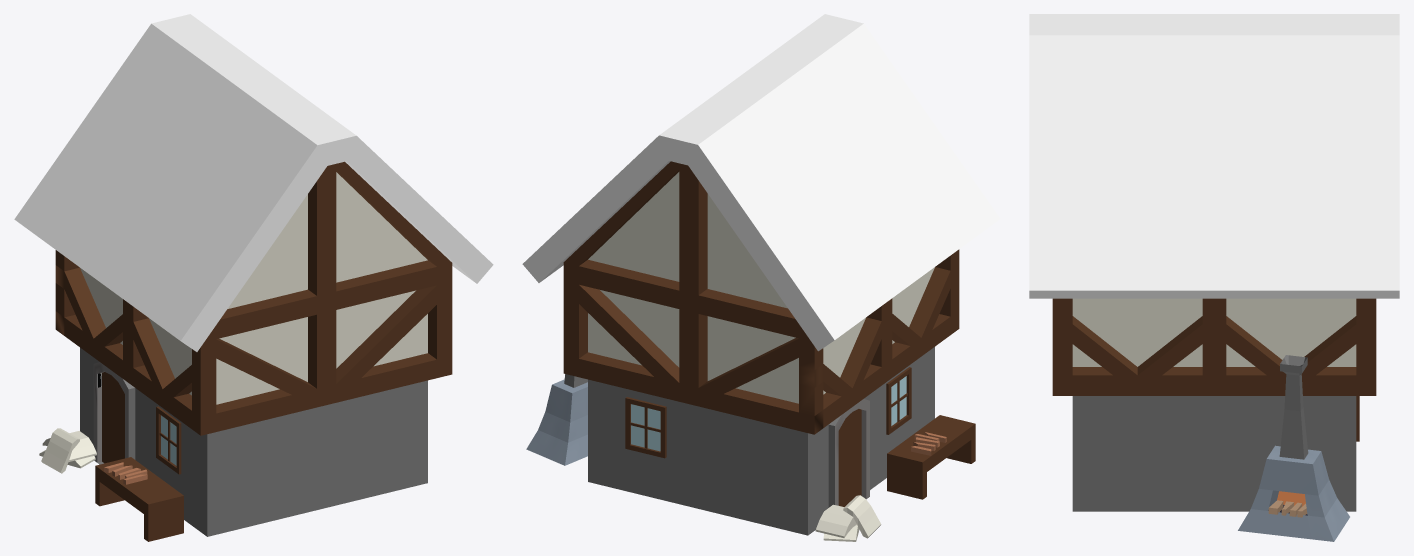
The model's file is BakeryCenter.fbx.
3 renders of one model, left to right at view 1: azimuth 30°, elevation 25°; view 2: azimuth 150°, elevation 25°; view 3: azimuth 270°, elevation 25°, orthographic. The views are drawn at different scales.
Visible parts, largest first — view 1: Bakery Center; view 2: Bakery Center; view 3: Bakery Center.
Boxes of the visible parts, x1,y1,x2,y2 form: Bakery Center: [14, 14, 493, 541]; Bakery Center: [522, 14, 1000, 541]; Bakery Center: [1029, 14, 1399, 541].
Size of the model in its own units: 77.52 by 83.06 by 65.23.
